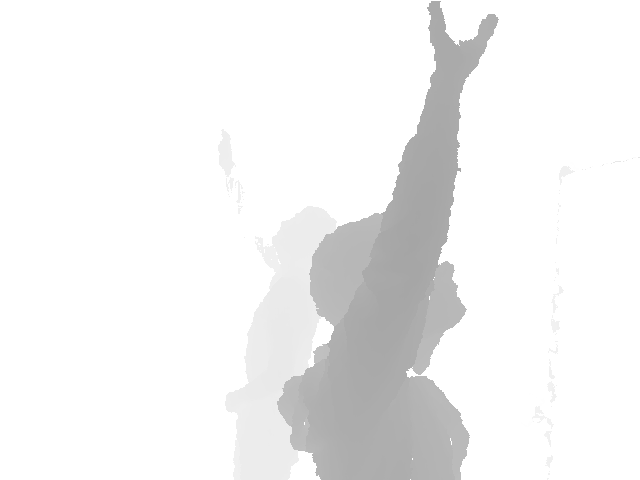hand: (426, 1, 498, 90), (215, 129, 237, 179)
head: (312, 211, 465, 355), (273, 206, 338, 271)
person: (276, 1, 499, 480), (214, 128, 339, 480)
